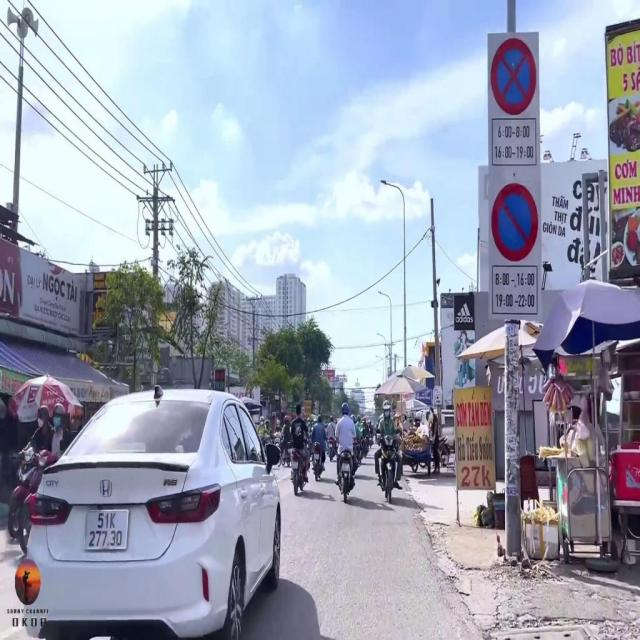cam_do_xe: (491, 182, 538, 262)
cam_dung_xe_va_do_xe: (491, 38, 536, 116)
